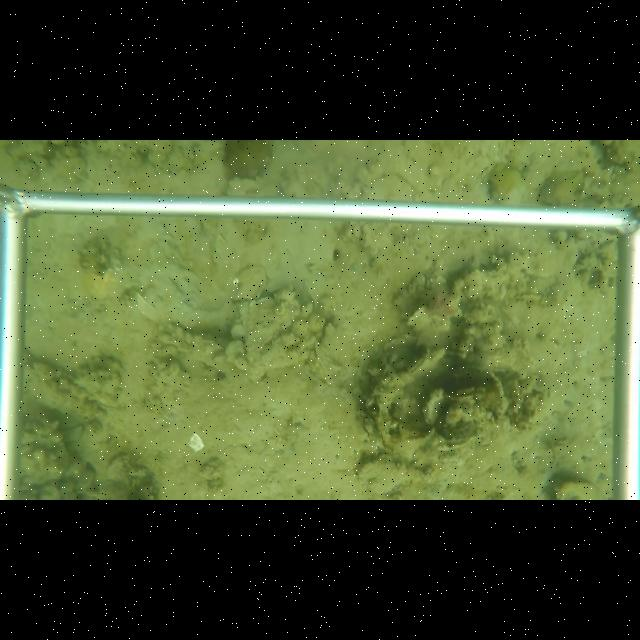Oyster-Closed: (356, 173, 420, 200), (407, 347, 447, 378), (551, 477, 601, 500)
